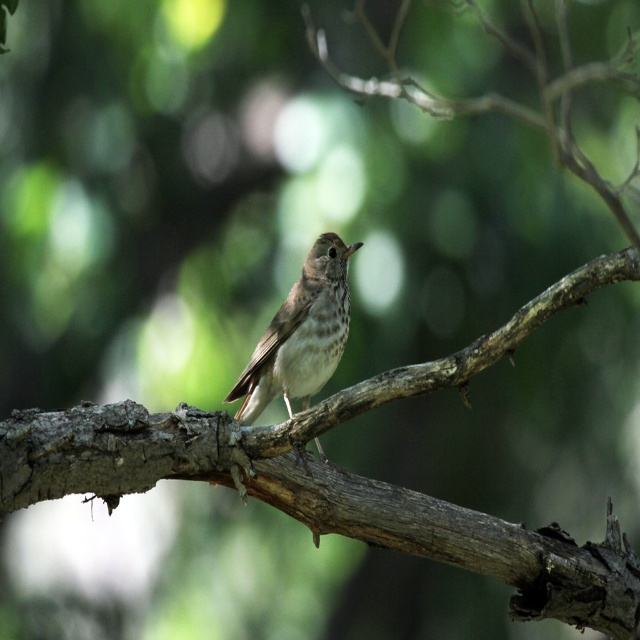Sparrow: (218, 227, 361, 460)
